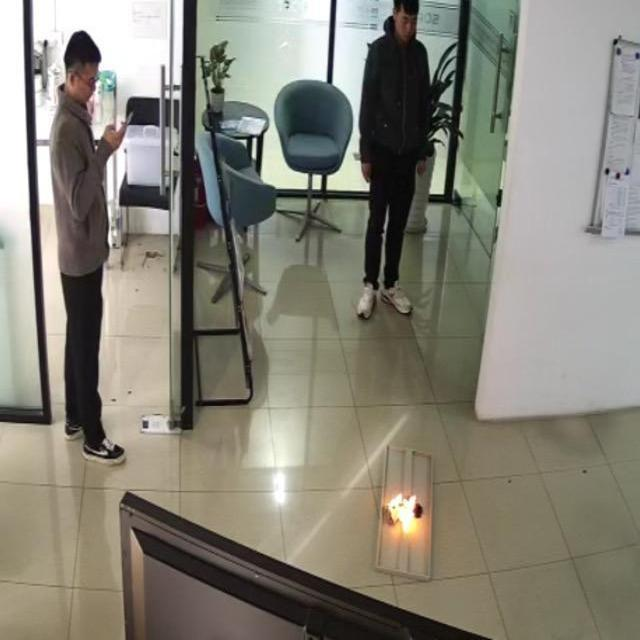smoke: (387, 482, 427, 542)
